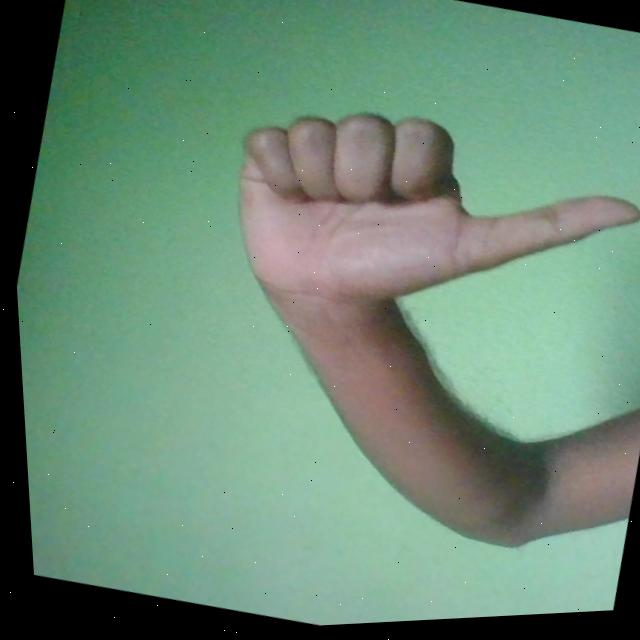Dislike: (205, 74, 640, 378)
